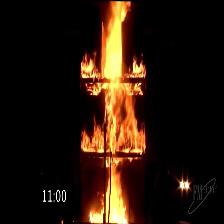fire: (93, 8, 138, 221)
